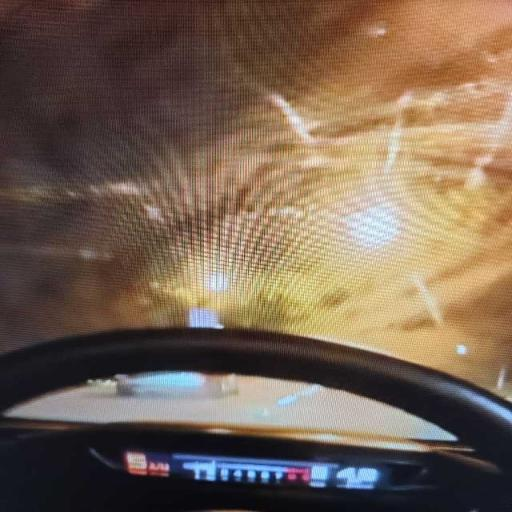car: (0, 0, 511, 511), (114, 372, 237, 397)
